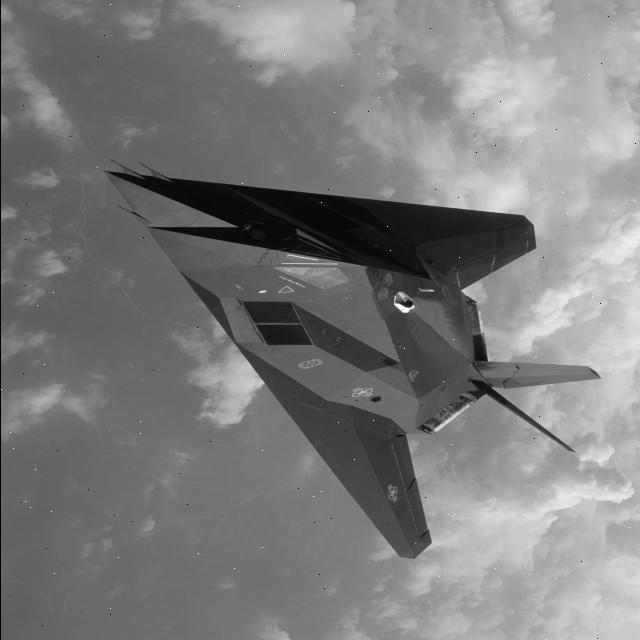F117: (68, 138, 612, 576)
